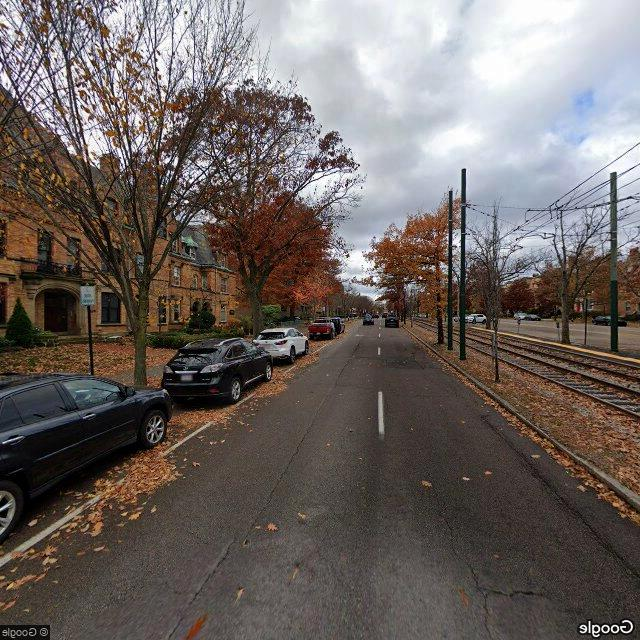pothole: (437, 502, 505, 639)
